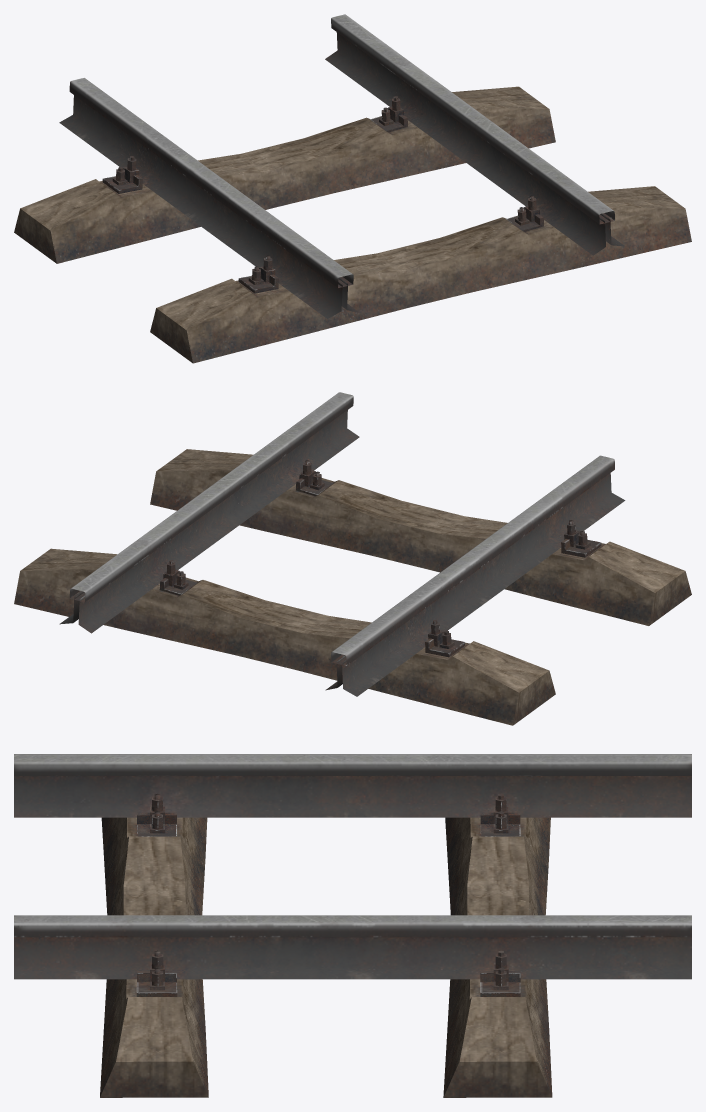
File: HJ_MKHZ_004.FBX
The picture shows the model from 3 angles, top to bottom: view 1: azimuth 30°, elevation 25°; view 2: azimuth 150°, elevation 25°; view 3: azimuth 270°, elevation 25°; orthographic projection. The views are drawn at different scales.
Visible parts, largest first — view 1: HJ_MKHZ_004; view 2: HJ_MKHZ_004; view 3: HJ_MKHZ_004.
Boxes of the visible parts, left/top/right/bottom form: HJ_MKHZ_004: left=14, top=14, right=691, bottom=363; HJ_MKHZ_004: left=14, top=392, right=691, bottom=725; HJ_MKHZ_004: left=14, top=754, right=691, bottom=1097.
Size of the model in its own units: 1.25 by 0.2004 by 1.16.
1 material, 1 textured.
